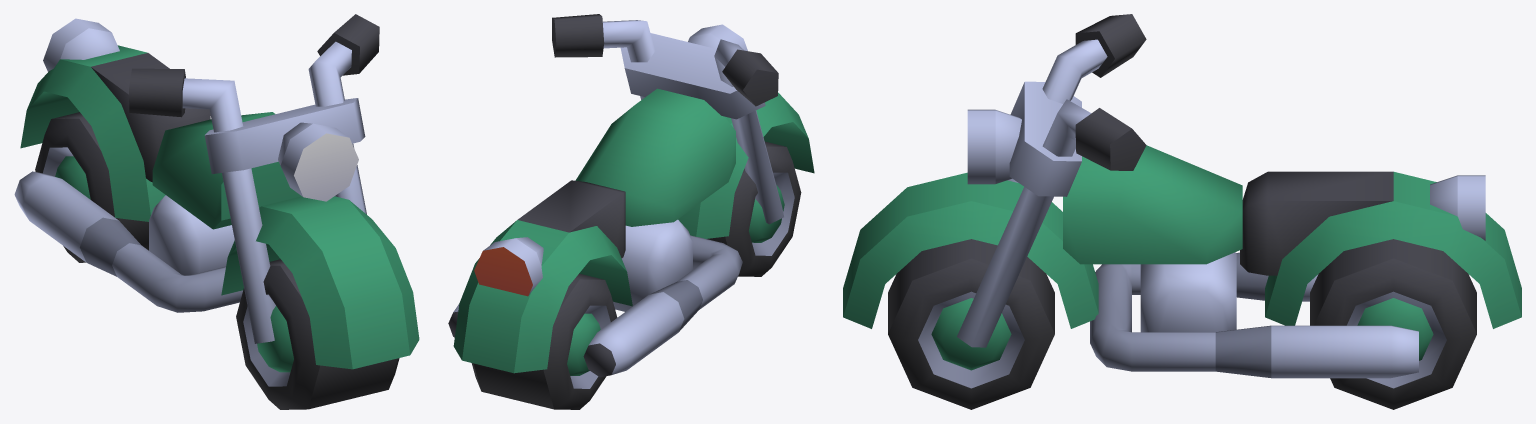
The model's file is vehicle-motorcycle.glb.
The picture shows the model from 3 angles, left to right: view 1: azimuth 30°, elevation 25°; view 2: azimuth 150°, elevation 25°; view 3: azimuth 270°, elevation 25°; orthographic projection. The views are drawn at different scales.
Visible parts, largest first — view 1: fork, body, wheel-front, wheel-back; view 2: body, fork, wheel-back, wheel-front; view 3: body, fork, wheel-front, wheel-back.
Boxes of the visible parts, x1,y1,x2,y2 form: fork: [129, 14, 419, 369]; body: [14, 18, 301, 312]; wheel-front: [236, 259, 399, 409]; wheel-back: [35, 112, 148, 262]; body: [448, 88, 742, 377]; fork: [552, 14, 814, 238]; wheel-back: [471, 273, 617, 409]; wheel-front: [707, 141, 801, 276]; body: [1063, 145, 1521, 378]; fork: [843, 14, 1146, 347]; wheel-front: [888, 239, 1054, 409]; wheel-back: [1310, 239, 1476, 409].
Bounding box in the file's own units: 1.09 × 1.27 × 2.44.
1 material, 1 textured.
